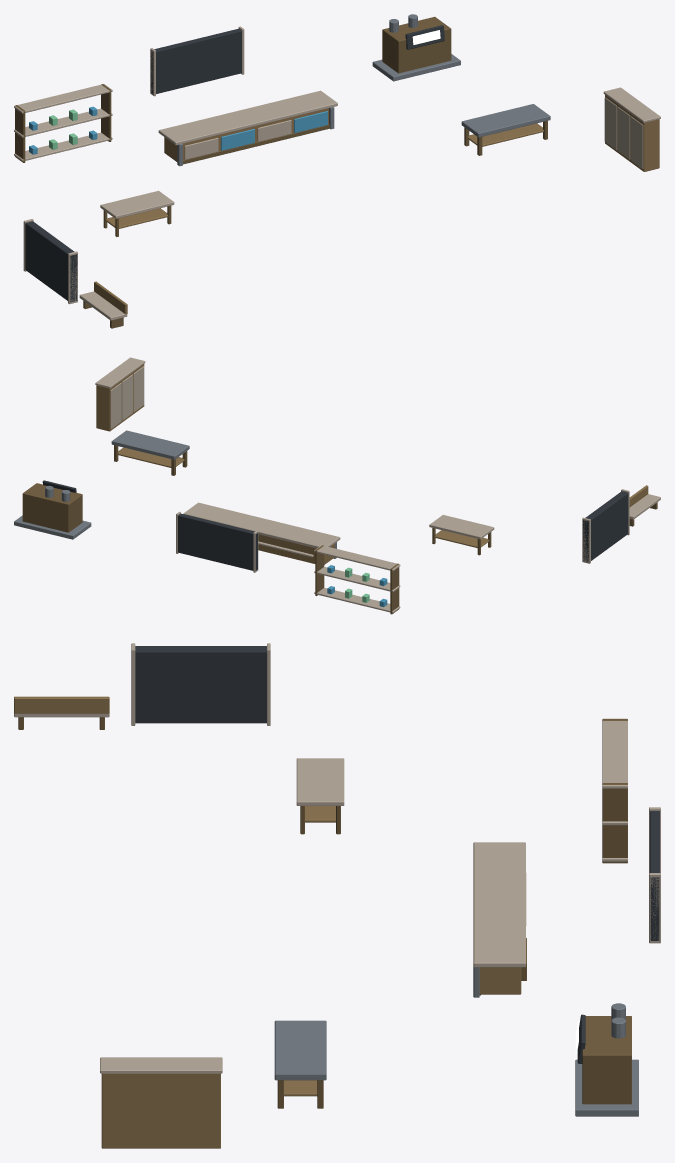
File: north_anchor_repair_shed.lod1.glb
3 views of the same model, one above another, from view 1: azimuth 30°, elevation 25°; view 2: azimuth 150°, elevation 25°; view 3: azimuth 270°, elevation 25° (orthographic). The views are drawn at different scales.
Bounding box in the file's own units: 25.69 × 2.82 × 16.25.
